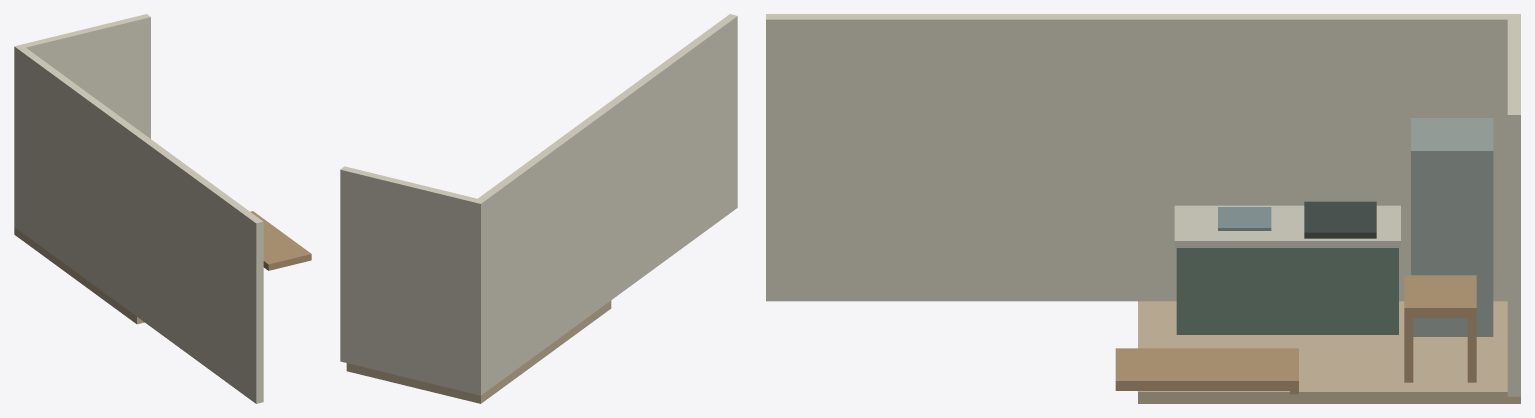
3 views of the same model, side by side, from view 1: azimuth 30°, elevation 25°; view 2: azimuth 150°, elevation 25°; view 3: azimuth 270°, elevation 25° (orthographic). The views are drawn at different scales.
Parts seen in each view (by area): view 1: WW_2, WN1_1, T1_8, GROUND_0; view 2: WW_2, WN1_1, GROUND_0; view 3: WW_2, GROUND_0, K1_3, F1_5, T1_8, KTOP_4, WN1_1, D1_10, OVEN_6, SINK_7.
Part boxes in pixels (<box>): WW_2: <box>14,45,263,403</box>; WN1_1: <box>14,14,150,229</box>; T1_8: <box>250,211,311,270</box>; GROUND_0: <box>14,227,144,324</box>; WW_2: <box>473,14,737,395</box>; WN1_1: <box>340,166,485,395</box>; GROUND_0: <box>346,300,611,403</box>; WW_2: <box>766,14,1520,301</box>; GROUND_0: <box>1138,301,1520,403</box>; K1_3: <box>1176,248,1398,334</box>; F1_5: <box>1411,118,1493,336</box>; T1_8: <box>1115,348,1298,390</box>; KTOP_4: <box>1174,205,1400,247</box>; WN1_1: <box>1507,14,1520,396</box>; D1_10: <box>1404,275,1476,317</box>; OVEN_6: <box>1304,201,1376,238</box>; SINK_7: <box>1218,207,1271,230</box>.
Size of the model in its own units: 2.72 by 2.92 by 6.8.
